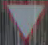Give way: (4, 1, 47, 43)
